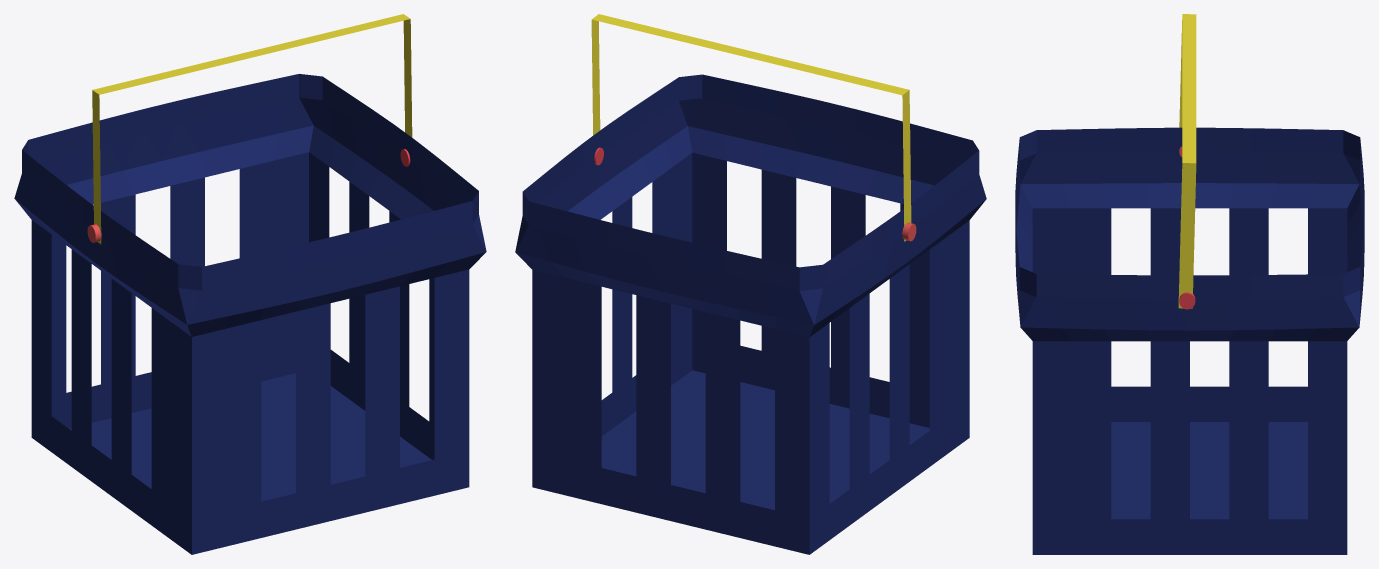
The model's file is NewBasketUnity.fbx.
3 views of the same model, side by side, from view 1: azimuth 30°, elevation 25°; view 2: azimuth 150°, elevation 25°; view 3: azimuth 270°, elevation 25° (orthographic).
Parts seen in each view (by area): view 1: Cube, Cube.001; view 2: Cube, Cube.001; view 3: Cube, Cube.001.
Part boxes in pixels (box(x1,y1,x2,y2)): Cube: box(14, 74, 486, 554); Cube.001: box(92, 14, 412, 243); Cube: box(515, 74, 986, 554); Cube.001: box(591, 14, 911, 241); Cube: box(1015, 127, 1364, 554); Cube.001: box(1178, 14, 1196, 308).
Bounding box in the file's own units: 230 × 281 × 222.
